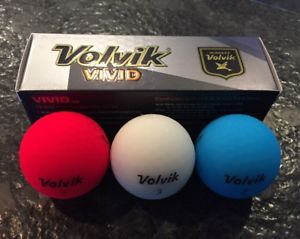blue ball: (195, 112, 282, 201)
red ball: (17, 110, 111, 201)
